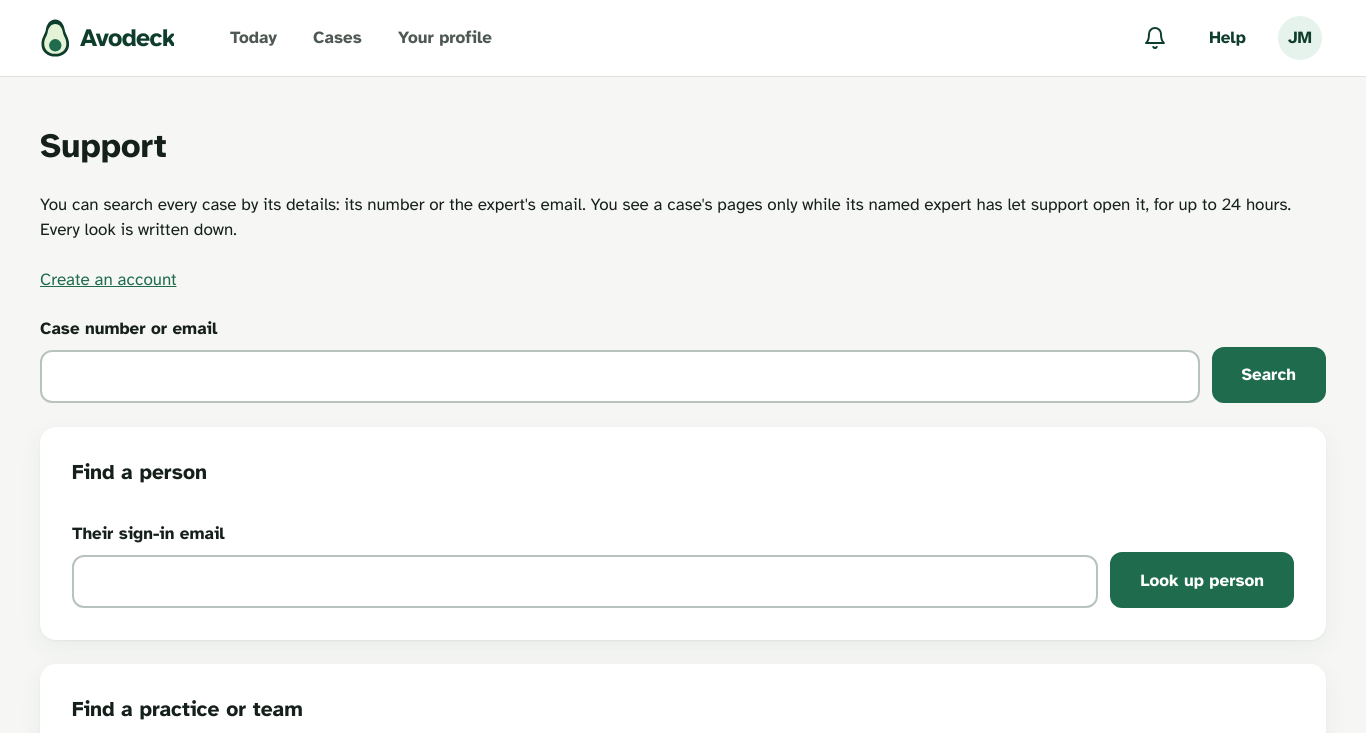
Test: staff choose which served case to move
Type "a@example.test" into the field labelled "Case number or email" at (620, 376), box 40,350 -> 1200,403
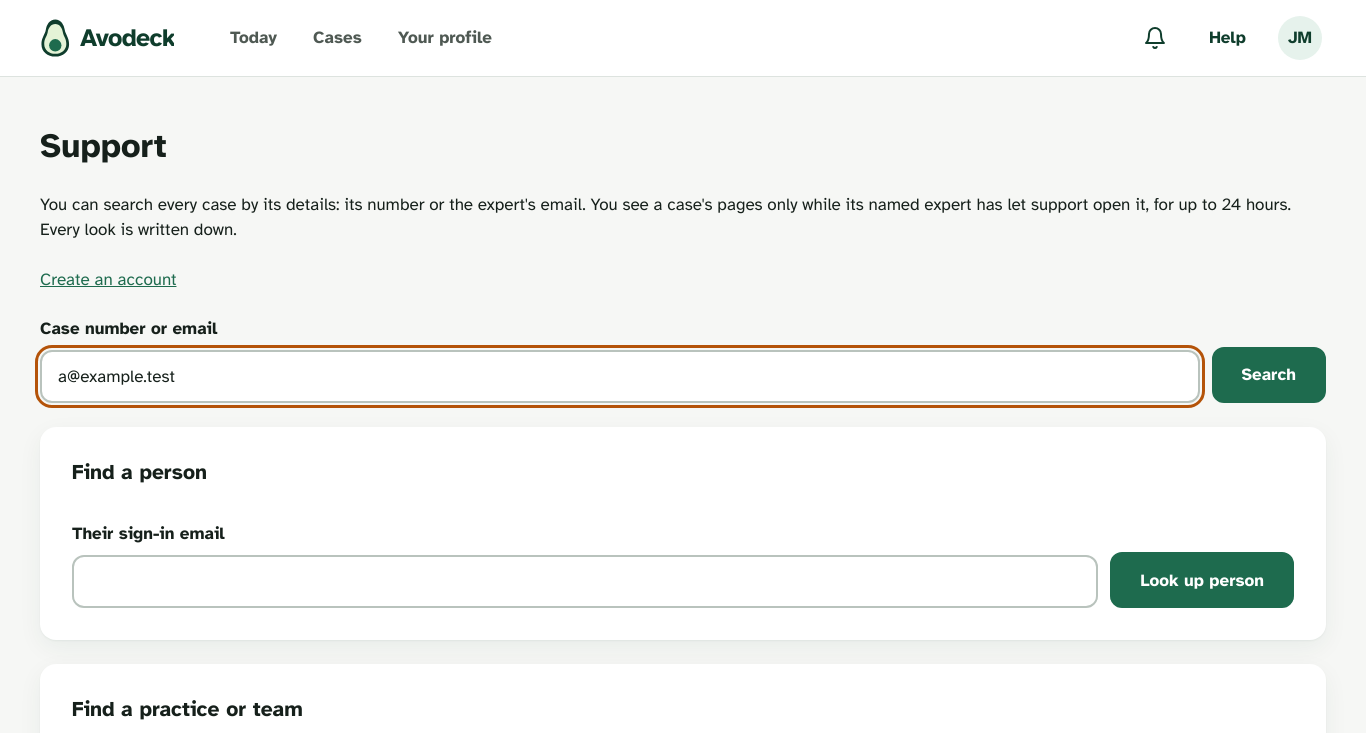
Click the button "Search" at (1269, 375), box 1212,347 -> 1326,403
(page scrolled)
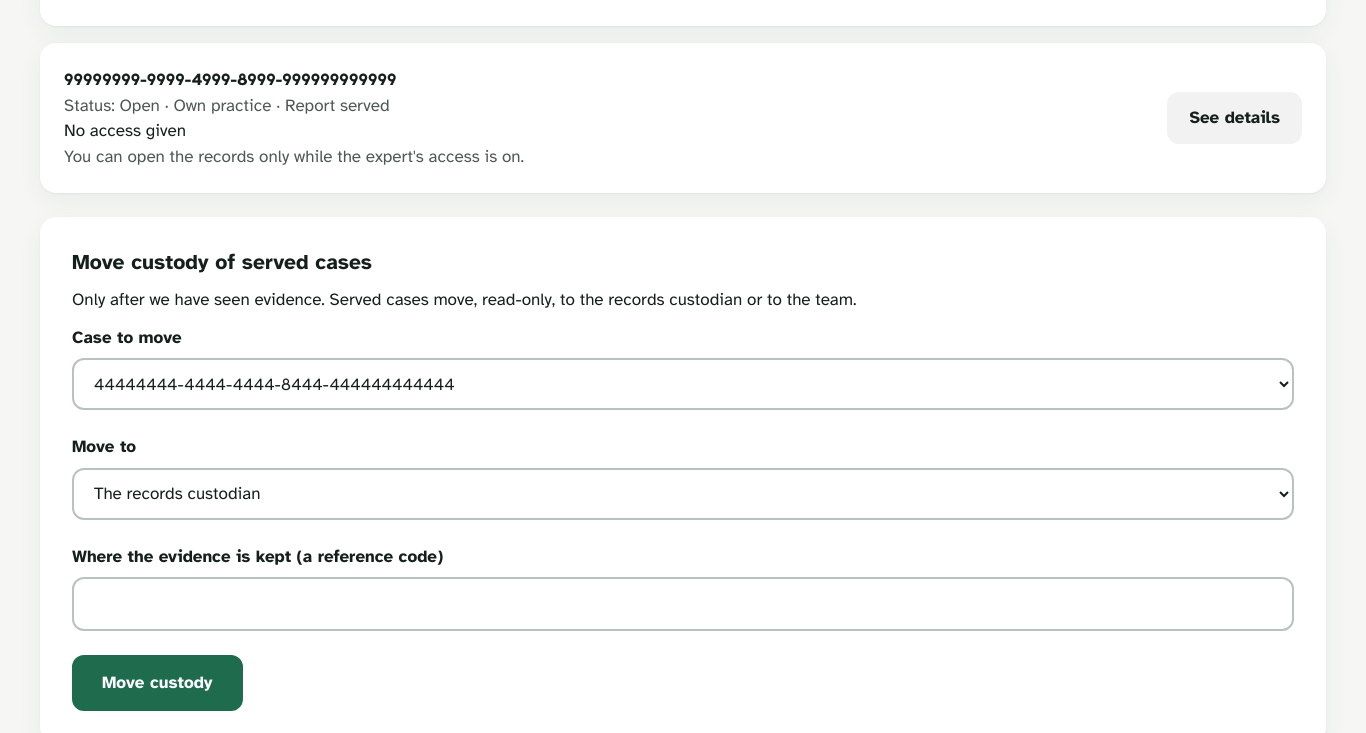
Select "99999999-9999-4999-8999-999999999999" in the dropdown labelled "Case to move" at (683, 384), box 72,358 -> 1294,410
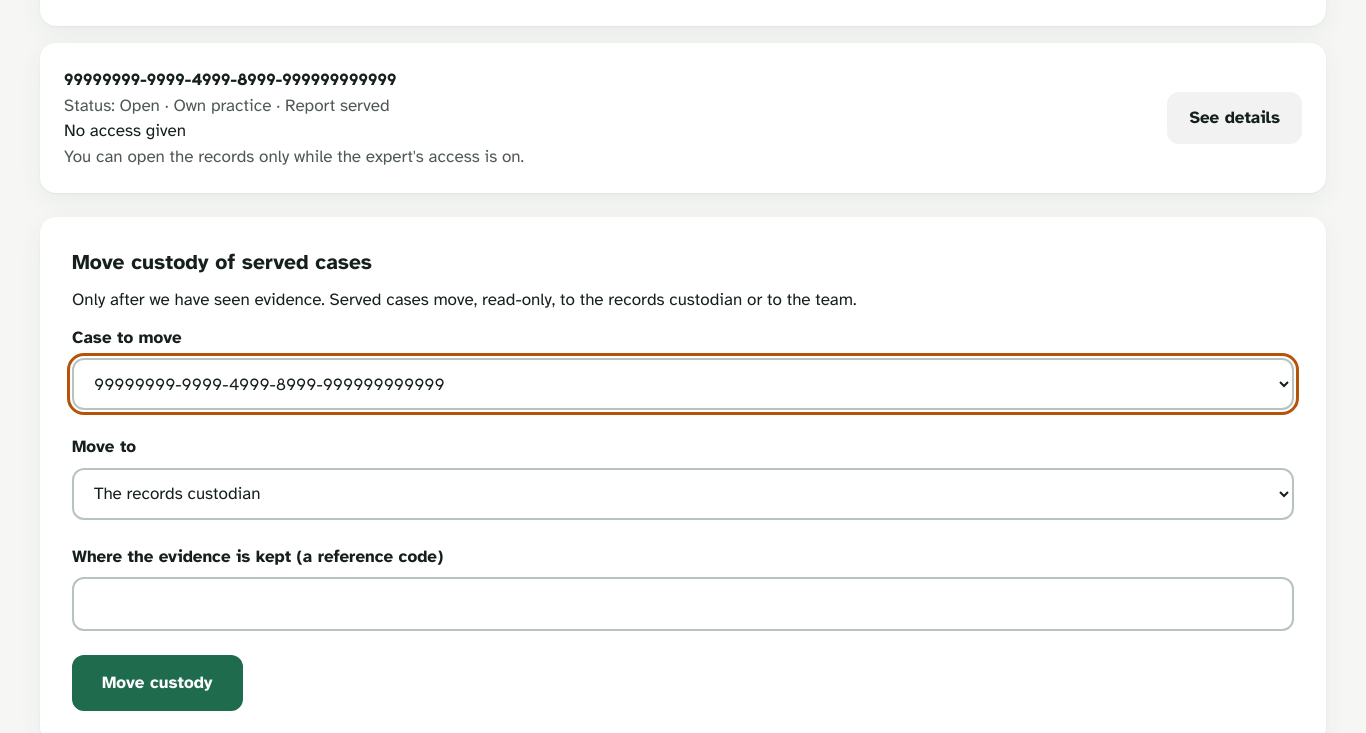
Type "REF1" into the field labelled "Where the evidence is kept (a reference code)" at (683, 604), box 72,577 -> 1294,631
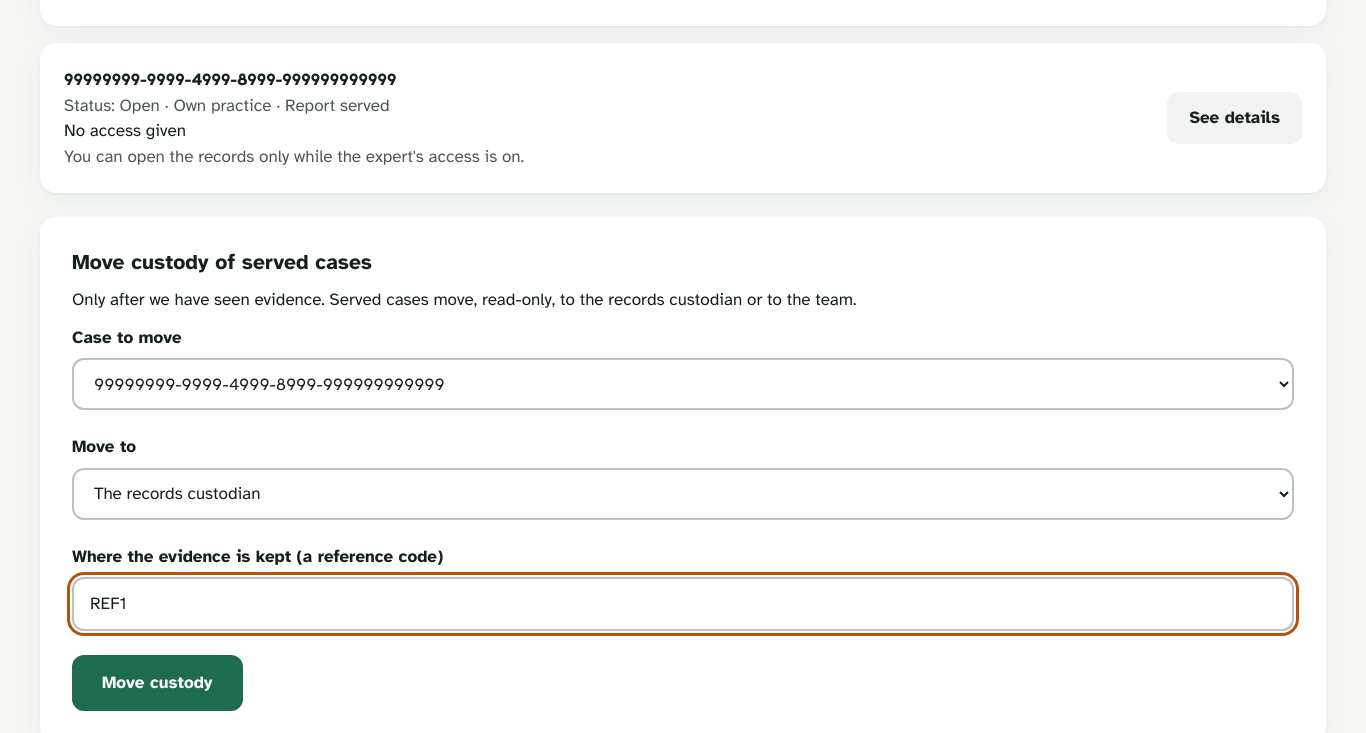
Click the button "Move custody" at (157, 683), box 72,655 -> 243,711
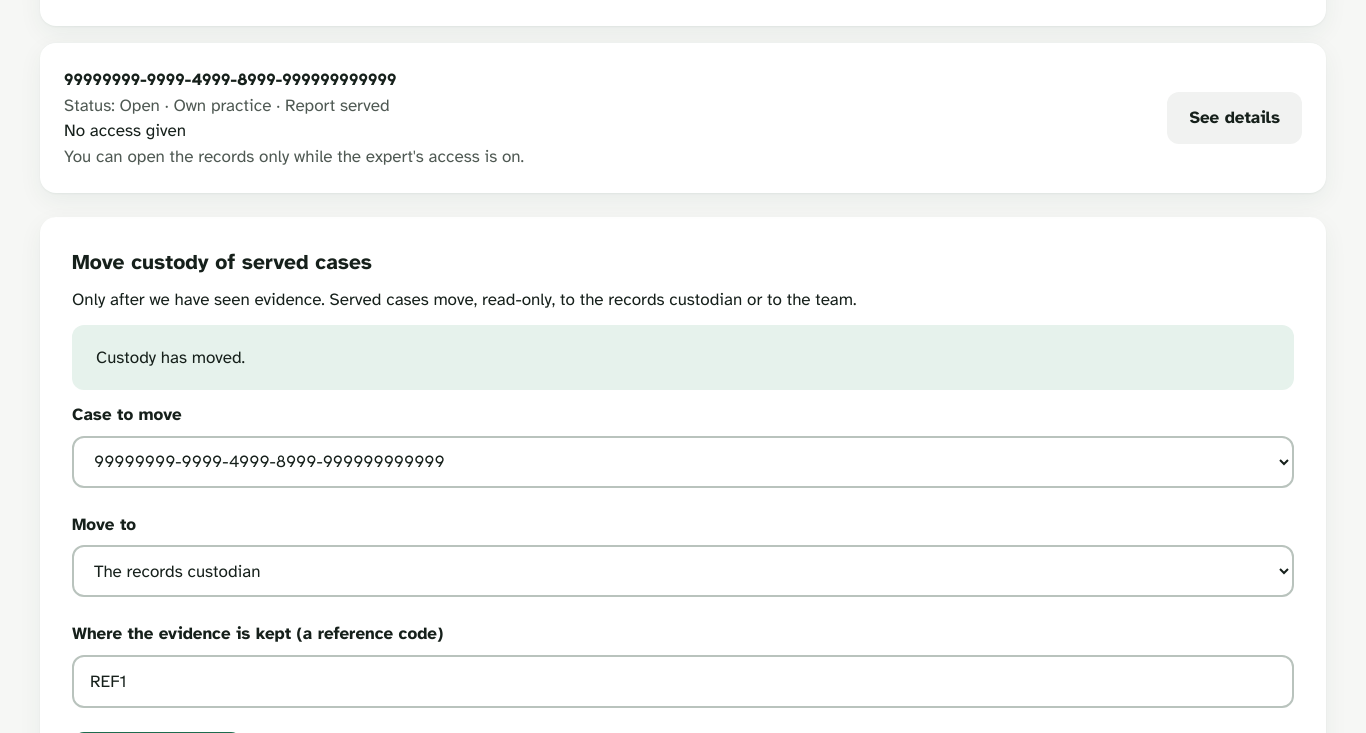
Expected: the text "Custody has moved." is shown, 96,347 -> 245,368
